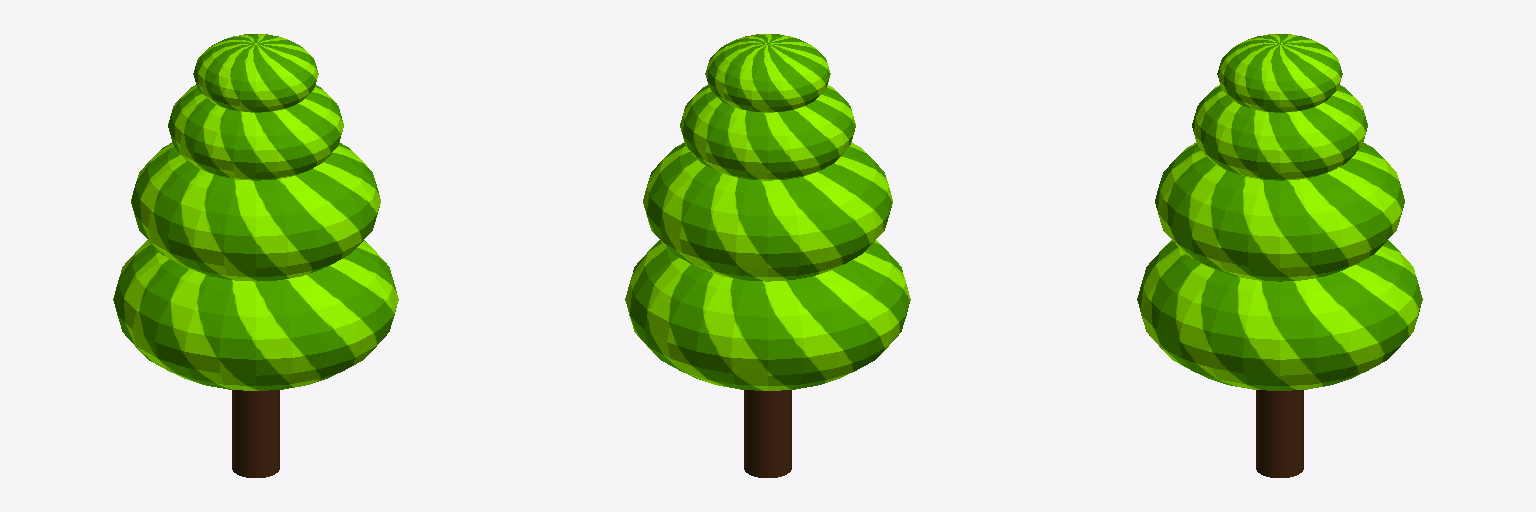
3 views of the same model, side by side, from view 1: azimuth 30°, elevation 25°; view 2: azimuth 150°, elevation 25°; view 3: azimuth 270°, elevation 25° (orthographic).
Visible parts, largest first — view 1: Sphere, Cylinder; view 2: Sphere, Cylinder; view 3: Sphere, Cylinder.
Boxes of the visible parts, <box> form: Sphere: <box>113,34,398,390</box>; Cylinder: <box>232,390,279,477</box>; Sphere: <box>625,34,910,390</box>; Cylinder: <box>744,390,791,477</box>; Sphere: <box>1137,34,1422,390</box>; Cylinder: <box>1256,390,1303,477</box>.
Bounding box in the file's own units: 57 × 93.5 × 57.
2 materials, 2 textured.